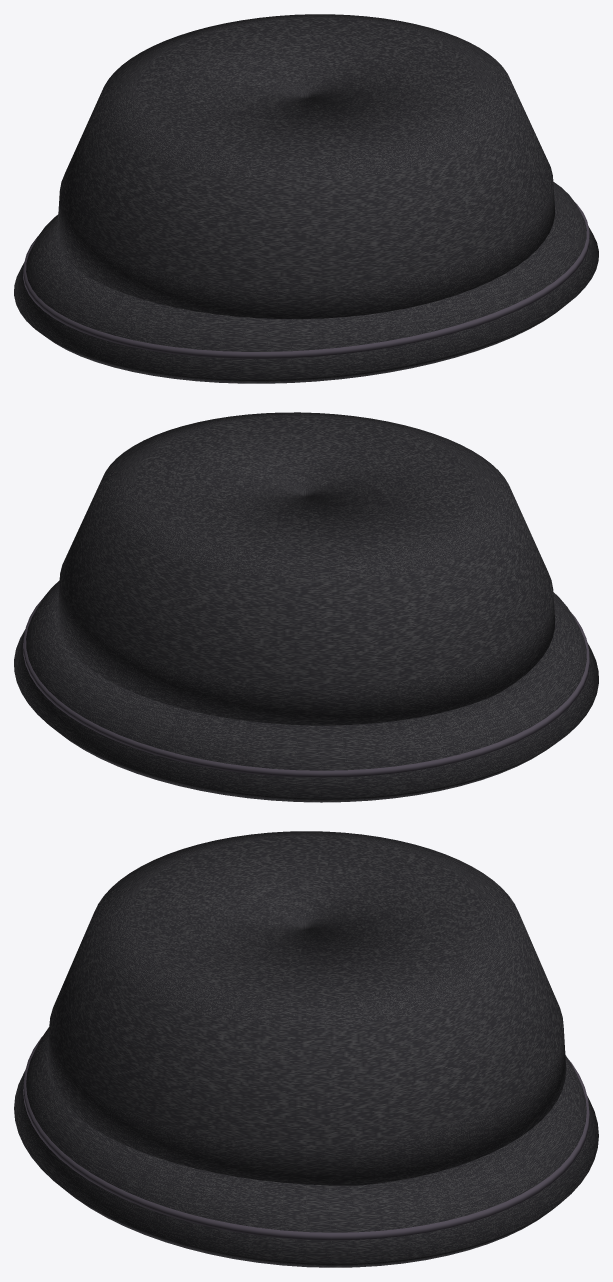
3 renders of one model, top to bottom at view 1: azimuth 30°, elevation 25°; view 2: azimuth 150°, elevation 25°; view 3: azimuth 270°, elevation 25°, orthographic. The views are drawn at different scales.
Parts seen in each view (by area): view 1: kpop-bucket-hat; view 2: kpop-bucket-hat; view 3: kpop-bucket-hat.
Part boxes in pixels (box(x1,y1,x2,y2)): kpop-bucket-hat: box(14, 14, 598, 383); kpop-bucket-hat: box(14, 412, 598, 802); kpop-bucket-hat: box(14, 831, 598, 1267).
Size of the model in its own units: 1.47 by 0.5558 by 1.29.
2 materials, 1 textured.
